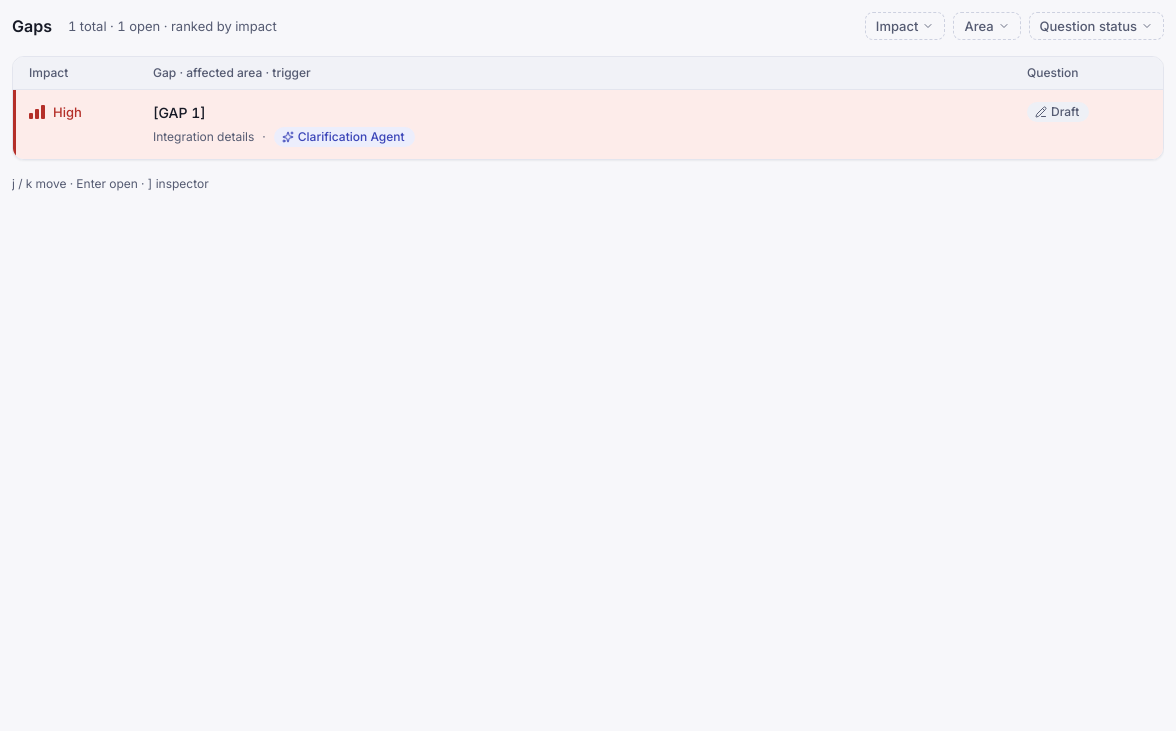
it: the inspector › a click opens the Gap without moving focus into the pane
This screenshot has width=1176, height=731.
Click the button "[GAP 1]" at (179, 112), box [153,102,206,123]
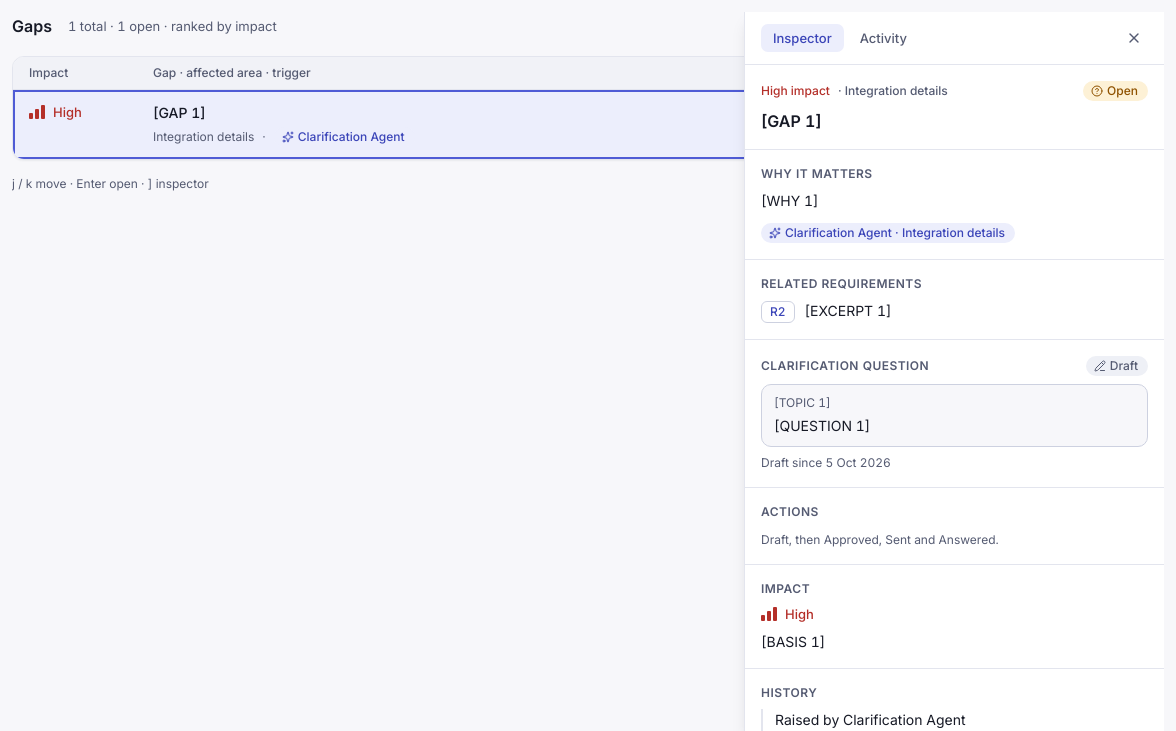
Expected: the heading "[GAP 1]" is shown, [761,111,822,131]
